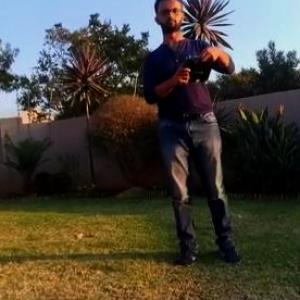follow: (137, 0, 246, 272)
